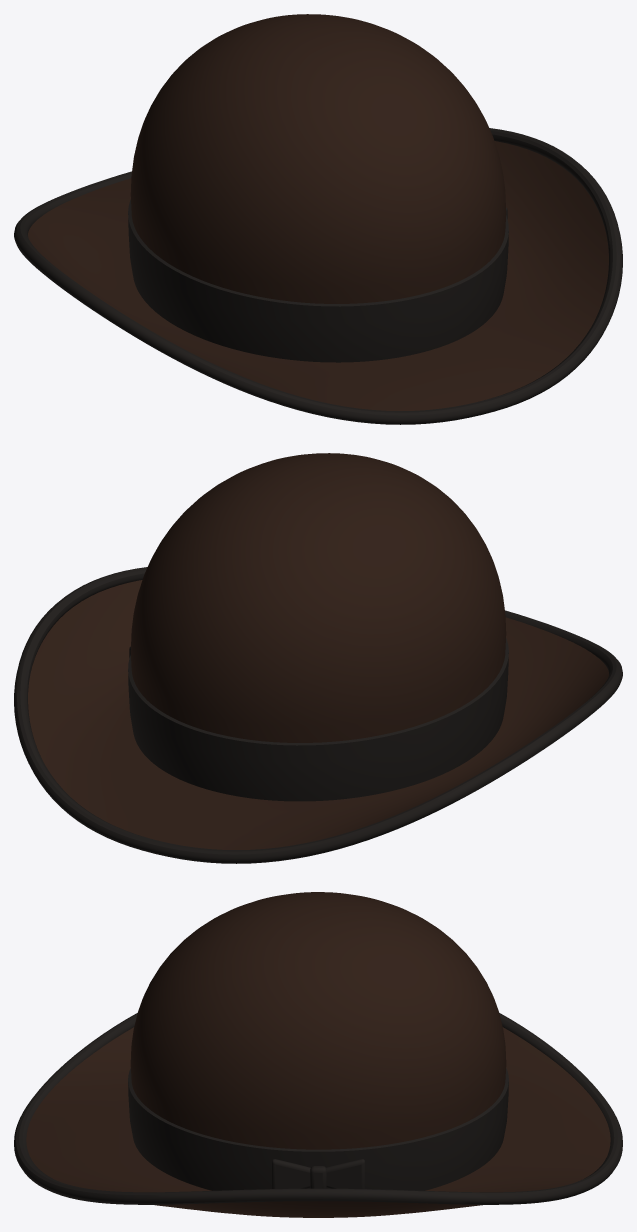
Rendered from bowler-hat.glb.
3 renders of one model, top to bottom at view 1: azimuth 30°, elevation 25°; view 2: azimuth 150°, elevation 25°; view 3: azimuth 270°, elevation 25°, orthographic. The views are drawn at different scales.
Visible parts, largest first — view 1: brim, band; view 2: brim, band; view 3: brim, band, bowloop.
Part boxes in pixels (x1=…): brim: x1=28, y1=14, x2=608, y2=410; band: x1=14, y1=128, x2=622, y2=424; brim: x1=28, y1=453, x2=608, y2=849; band: x1=14, y1=567, x2=622, y2=863; brim: x1=26, y1=892, x2=610, y2=1217; band: x1=14, y1=1013, x2=622, y2=1204; bowloop: x1=272, y1=1159, x2=364, y2=1188.
Bounding box in the file's own units: 0.2764 × 0.1336 × 0.3094.
